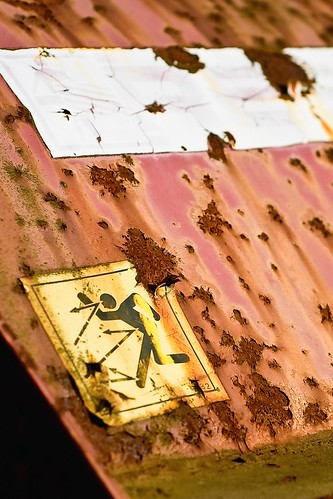sign: (22, 229, 240, 429)
